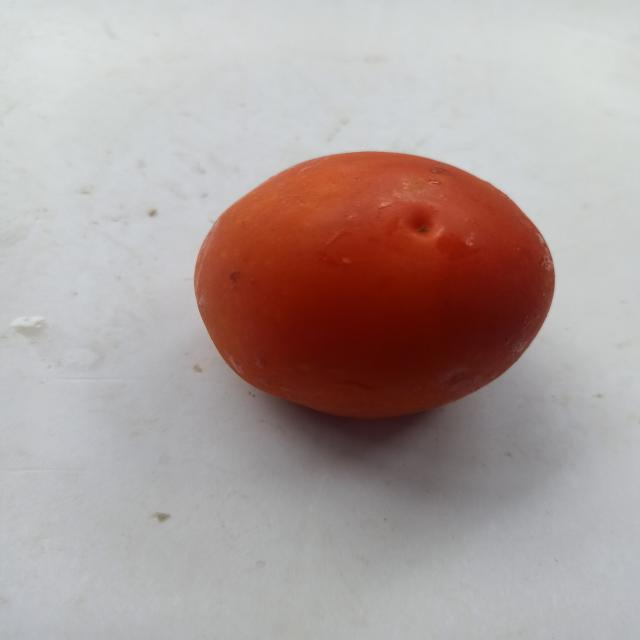Tomato: (169, 126, 568, 464)
